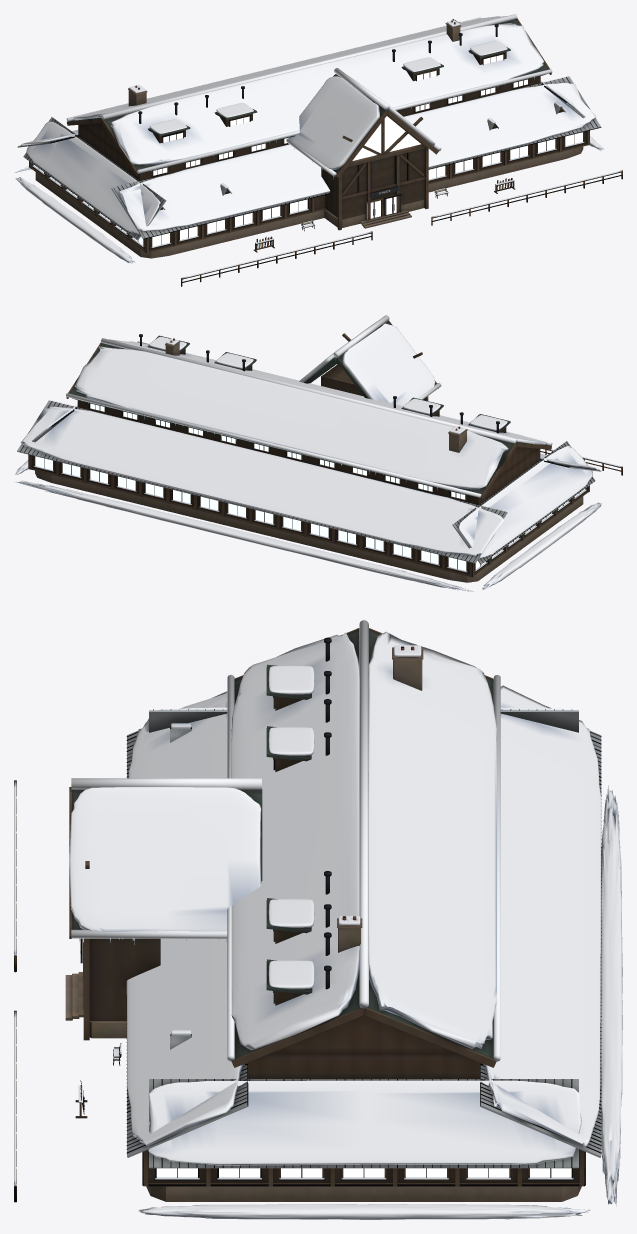
File: sundeck.glb
3 renders of one model, top to bottom at view 1: azimuth 30°, elevation 25°; view 2: azimuth 150°, elevation 25°; view 3: azimuth 270°, elevation 25°, orthographic. The views are drawn at different scales.
Visible parts, largest first — view 1: sundeck_snow, sundeck, sundeck_lit; view 2: sundeck_snow, sundeck, sundeck_lit; view 3: sundeck_snow, sundeck, sundeck_lit.
Part boxes in pixels (<box>): sundeck_snow: <box>15,14,622,278</box>; sundeck: <box>17,18,622,286</box>; sundeck_lit: <box>33,54,582,246</box>; sundeck_snow: <box>15,315,621,591</box>; sundeck: <box>17,320,622,582</box>; sundeck_lit: <box>35,403,585,570</box>; sundeck_snow: <box>14,620,622,1219</box>; sundeck: <box>14,628,601,1202</box>; sundeck_lit: <box>156,1168,571,1177</box>.
Bounding box in the file's own units: 71.65 × 17.04 × 41.92.
Materials: 5 (1 with a texture image).
